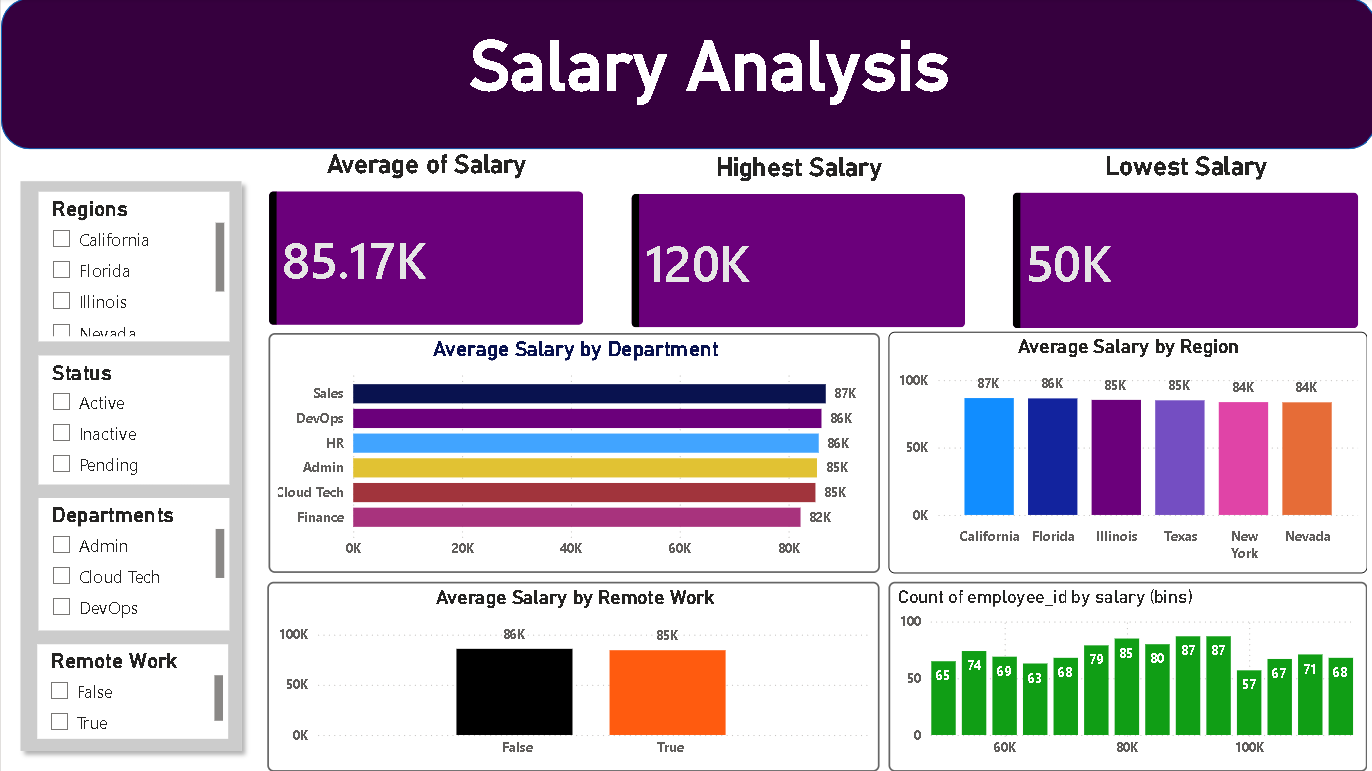

This screenshot's page, from the dashboard's own definition file:
{"tool":"powerbi","page":{"name":"Page 2","canvas":[1280,720],"ordinal":1},"visuals":[{"type":"cardVisual","title":"Average of Salary","fields":{"Data":["Avg(public employee_details.salary)"]},"box":[232.6,140.7,326.7,180.2],"z":0},{"type":"cardVisual","title":"Highest Salary","fields":{"Data":["public employee_details.Highest Salary"]},"box":[569.8,143,344.2,180.2],"z":1000},{"type":"cardVisual","title":"Lowest Salary","fields":{"Data":["public employee_details.Lowest Salary"]},"box":[924.4,141.9,355.8,182.6],"z":2000},{"type":"clusteredBarChart","title":"Average Salary by Department","fields":{"Category":["public employee_details.department"],"Y":["Avg(public employee_details.salary)"]},"box":[248.8,311.6,568.6,223.3],"z":3000},{"type":"shape","box":[0,0,1280.2,140.7],"z":4000},{"type":"textbox","box":[430.2,19.8,850,132.6],"z":5000},{"type":"clusteredColumnChart","title":"Average Salary by Region","fields":{"Category":["public employee_details.region"],"Y":["Avg(public employee_details.salary)"]},"box":[825.6,310.5,445.4,224.4],"z":6000},{"type":"clusteredColumnChart","title":"Average Salary by Remote Work","fields":{"Category":["public employee_details.remote_work"],"Y":["Avg(public employee_details.salary)"]},"box":[247.7,543,569.8,176.7],"z":7000},{"type":"clusteredColumnChart","fields":{"Y":["CountNonNull(public employee_details.employee_id)"],"Category":["public employee_details.salary (bins)"]},"box":[825.6,543,445.4,176.7],"z":8000},{"type":"shape","box":[9.3,161.6,223.3,547.7],"z":13000},{"type":"slicer","fields":{"Values":["public employee_details.region"]},"box":[34.9,180.2,177.9,139.5],"z":13500},{"type":"slicer","fields":{"Values":["public employee_details.status"]},"box":[34.9,332.6,177.9,119.8],"z":14000},{"type":"slicer","fields":{"Values":["public employee_details.department"]},"box":[34.9,465.1,177.9,123.3],"z":14500},{"type":"slicer","fields":{"Values":["public employee_details.remote_work"]},"box":[33.7,601.2,177.9,88.4],"z":15000}]}

Visuals, with their boxes in screenshot pixels (x1, y1, x2, y2), scaled from the page's 1280x720 canvas onto the 1372x771 screenshot:
"Average of Salary" cardVisual: x1=249, y1=151, x2=599, y2=344
"Highest Salary" cardVisual: x1=611, y1=153, x2=980, y2=346
"Lowest Salary" cardVisual: x1=991, y1=152, x2=1371, y2=347
"Average Salary by Department" clusteredBarChart: x1=267, y1=334, x2=876, y2=573
shape: x1=0, y1=0, x2=1371, y2=151
textbox: x1=461, y1=21, x2=1371, y2=163
"Average Salary by Region" clusteredColumnChart: x1=885, y1=332, x2=1362, y2=573
"Average Salary by Remote Work" clusteredColumnChart: x1=266, y1=581, x2=876, y2=770
clusteredColumnChart - CountNonNull(public employee_details.employee_id) x public employee_details.salary (bins): x1=885, y1=581, x2=1362, y2=770
shape: x1=10, y1=173, x2=249, y2=760
slicer - public employee_details.region: x1=37, y1=193, x2=228, y2=342
slicer - public employee_details.status: x1=37, y1=356, x2=228, y2=484
slicer - public employee_details.department: x1=37, y1=498, x2=228, y2=630
slicer - public employee_details.remote_work: x1=36, y1=644, x2=227, y2=738
